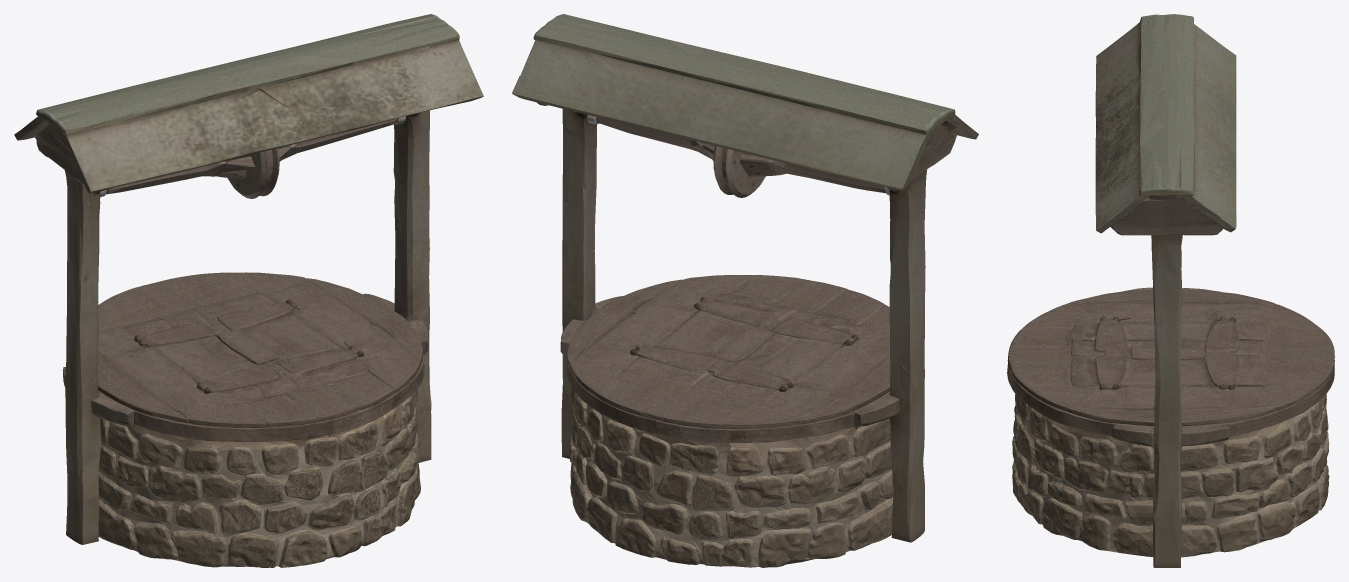
File: well_head_winkhurst_a.meshy.reduced.glb
The picture shows the model from 3 angles, left to right: view 1: azimuth 30°, elevation 25°; view 2: azimuth 150°, elevation 25°; view 3: azimuth 270°, elevation 25°; orthographic projection. The views are drawn at different scales.
Size of the model in its own units: 1.84 by 1.9 by 1.45.
1 material, 1 textured.
